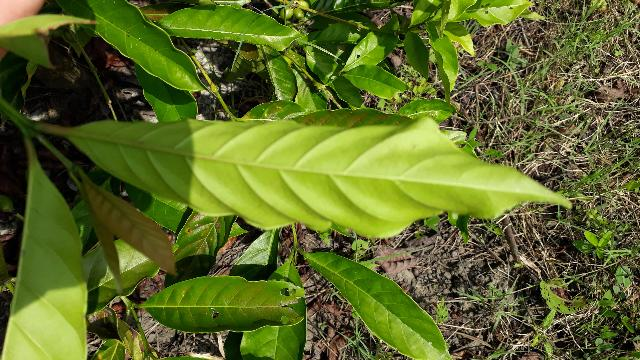healthy: (69, 123, 570, 243)
